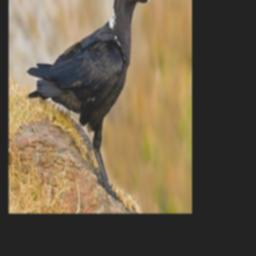Crow: (27, 0, 151, 202)
